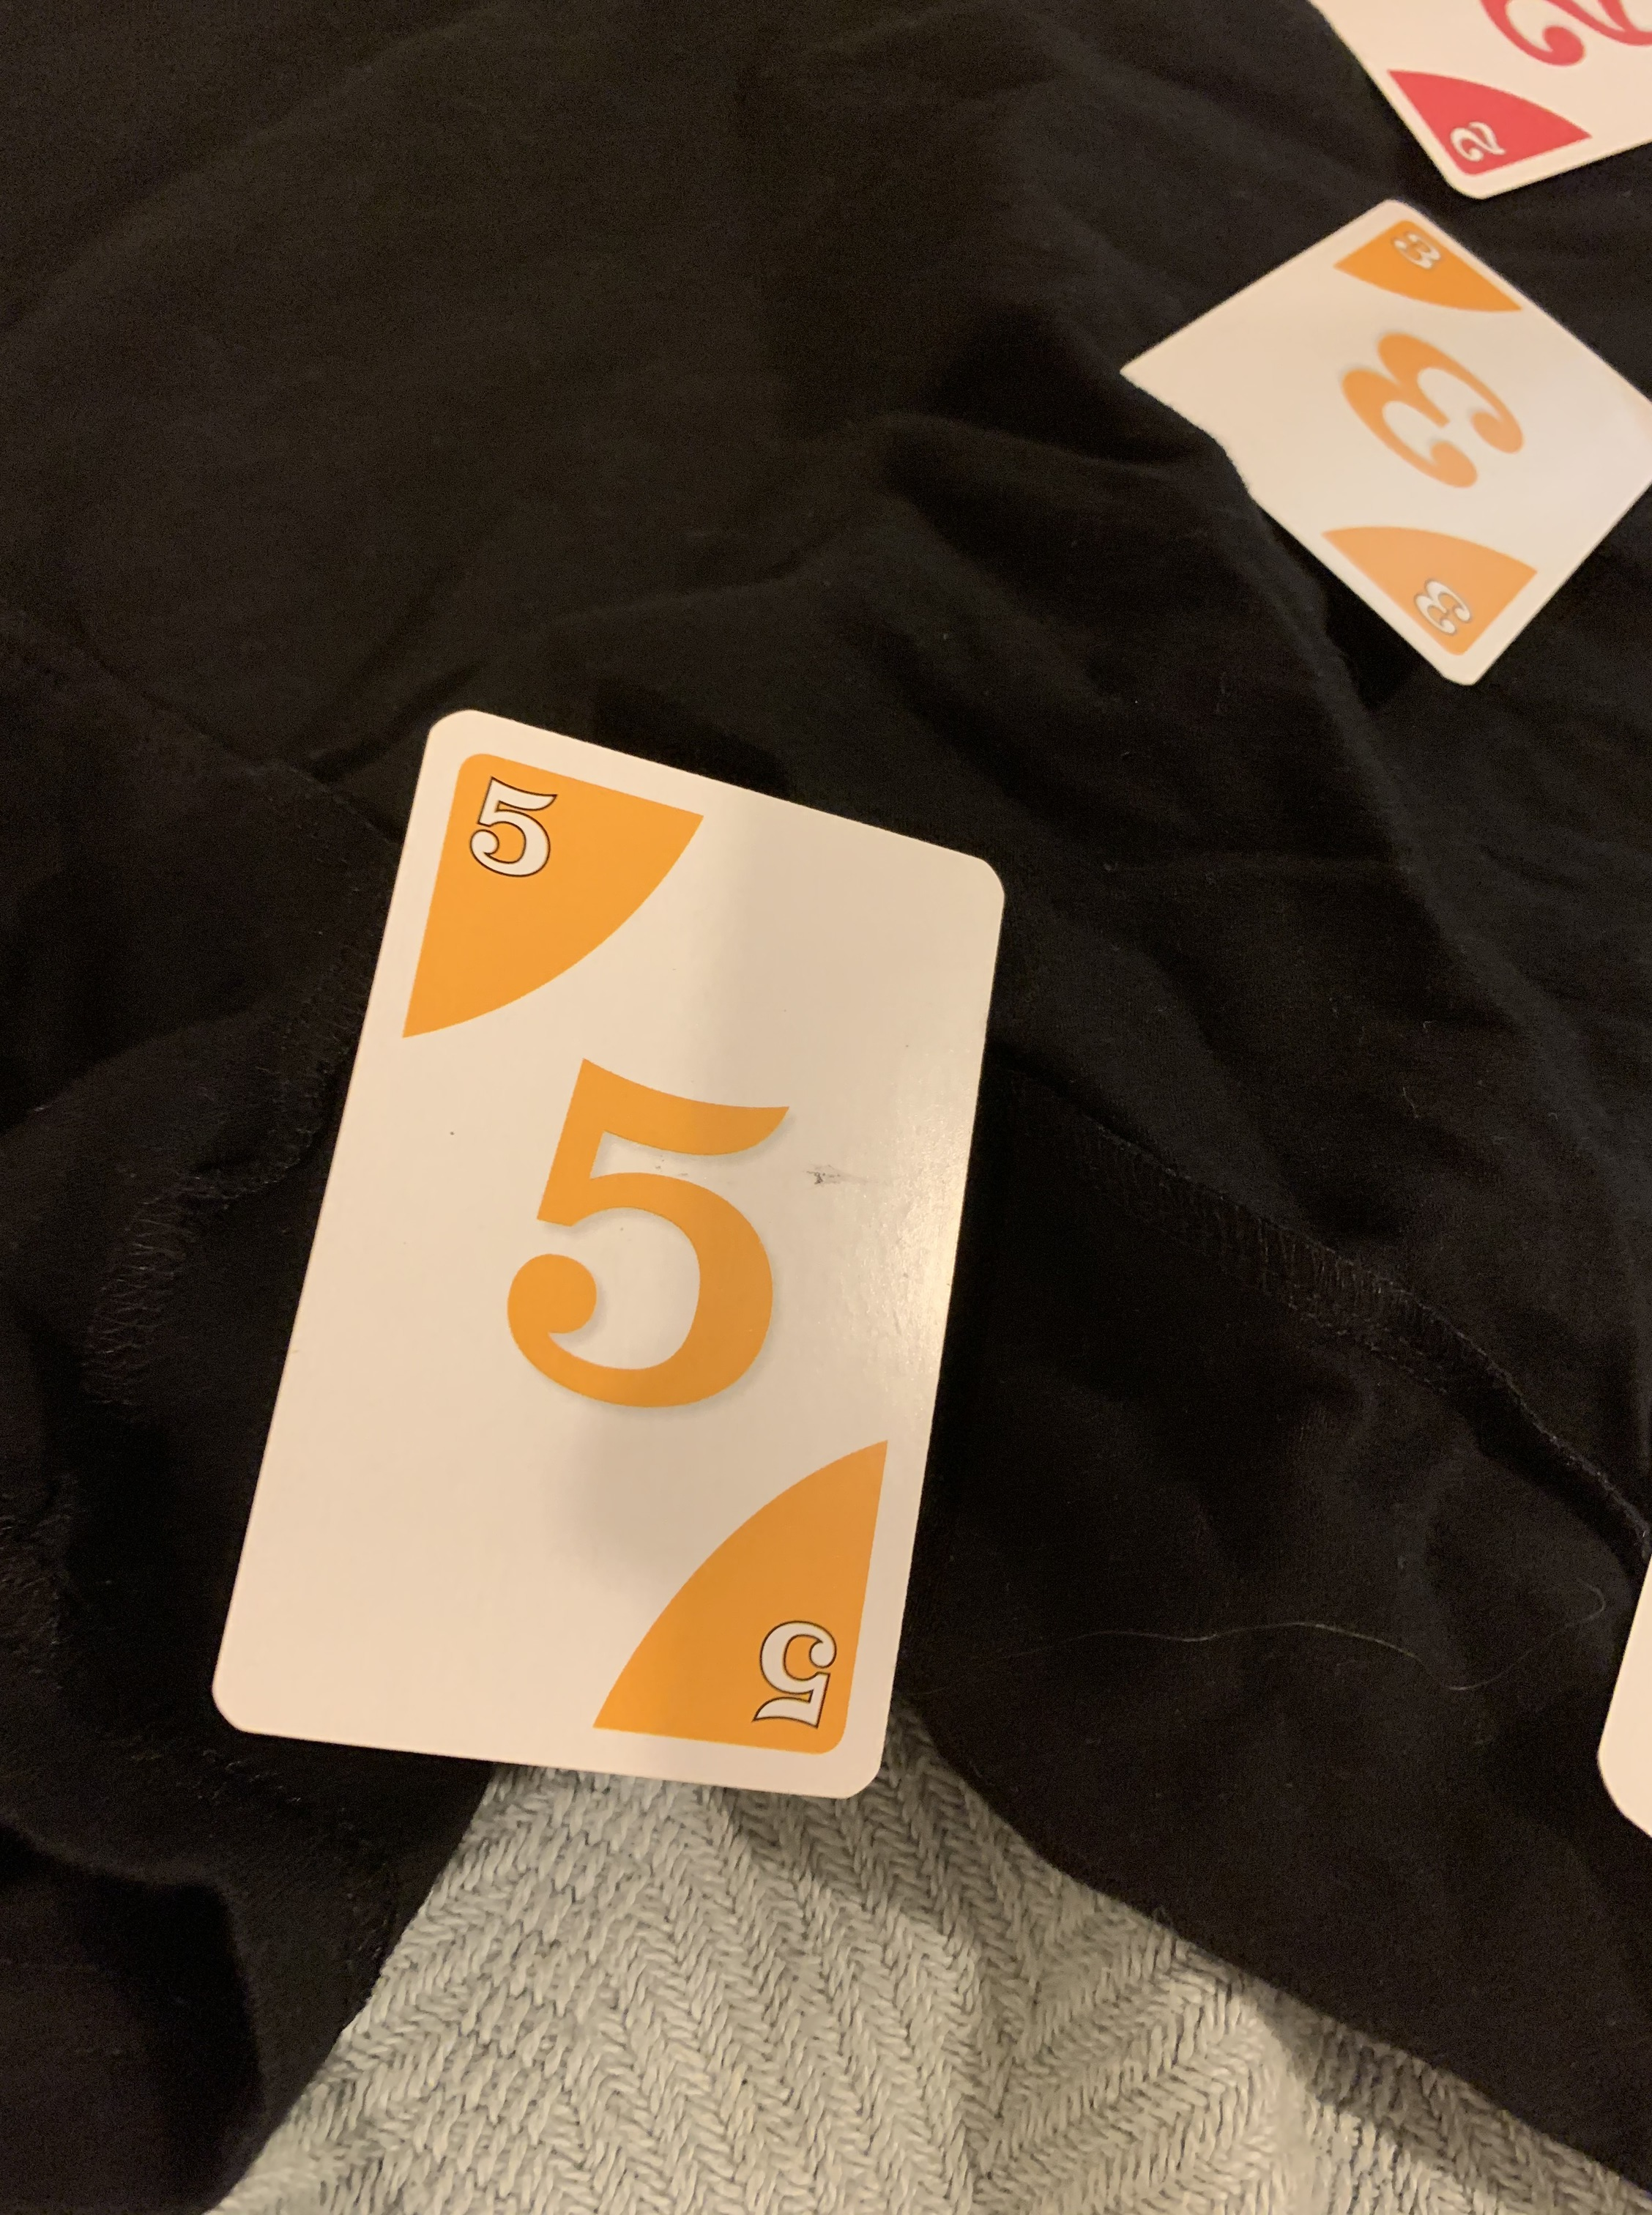five: (179, 708, 1041, 1824)
three: (1090, 184, 1652, 713)
